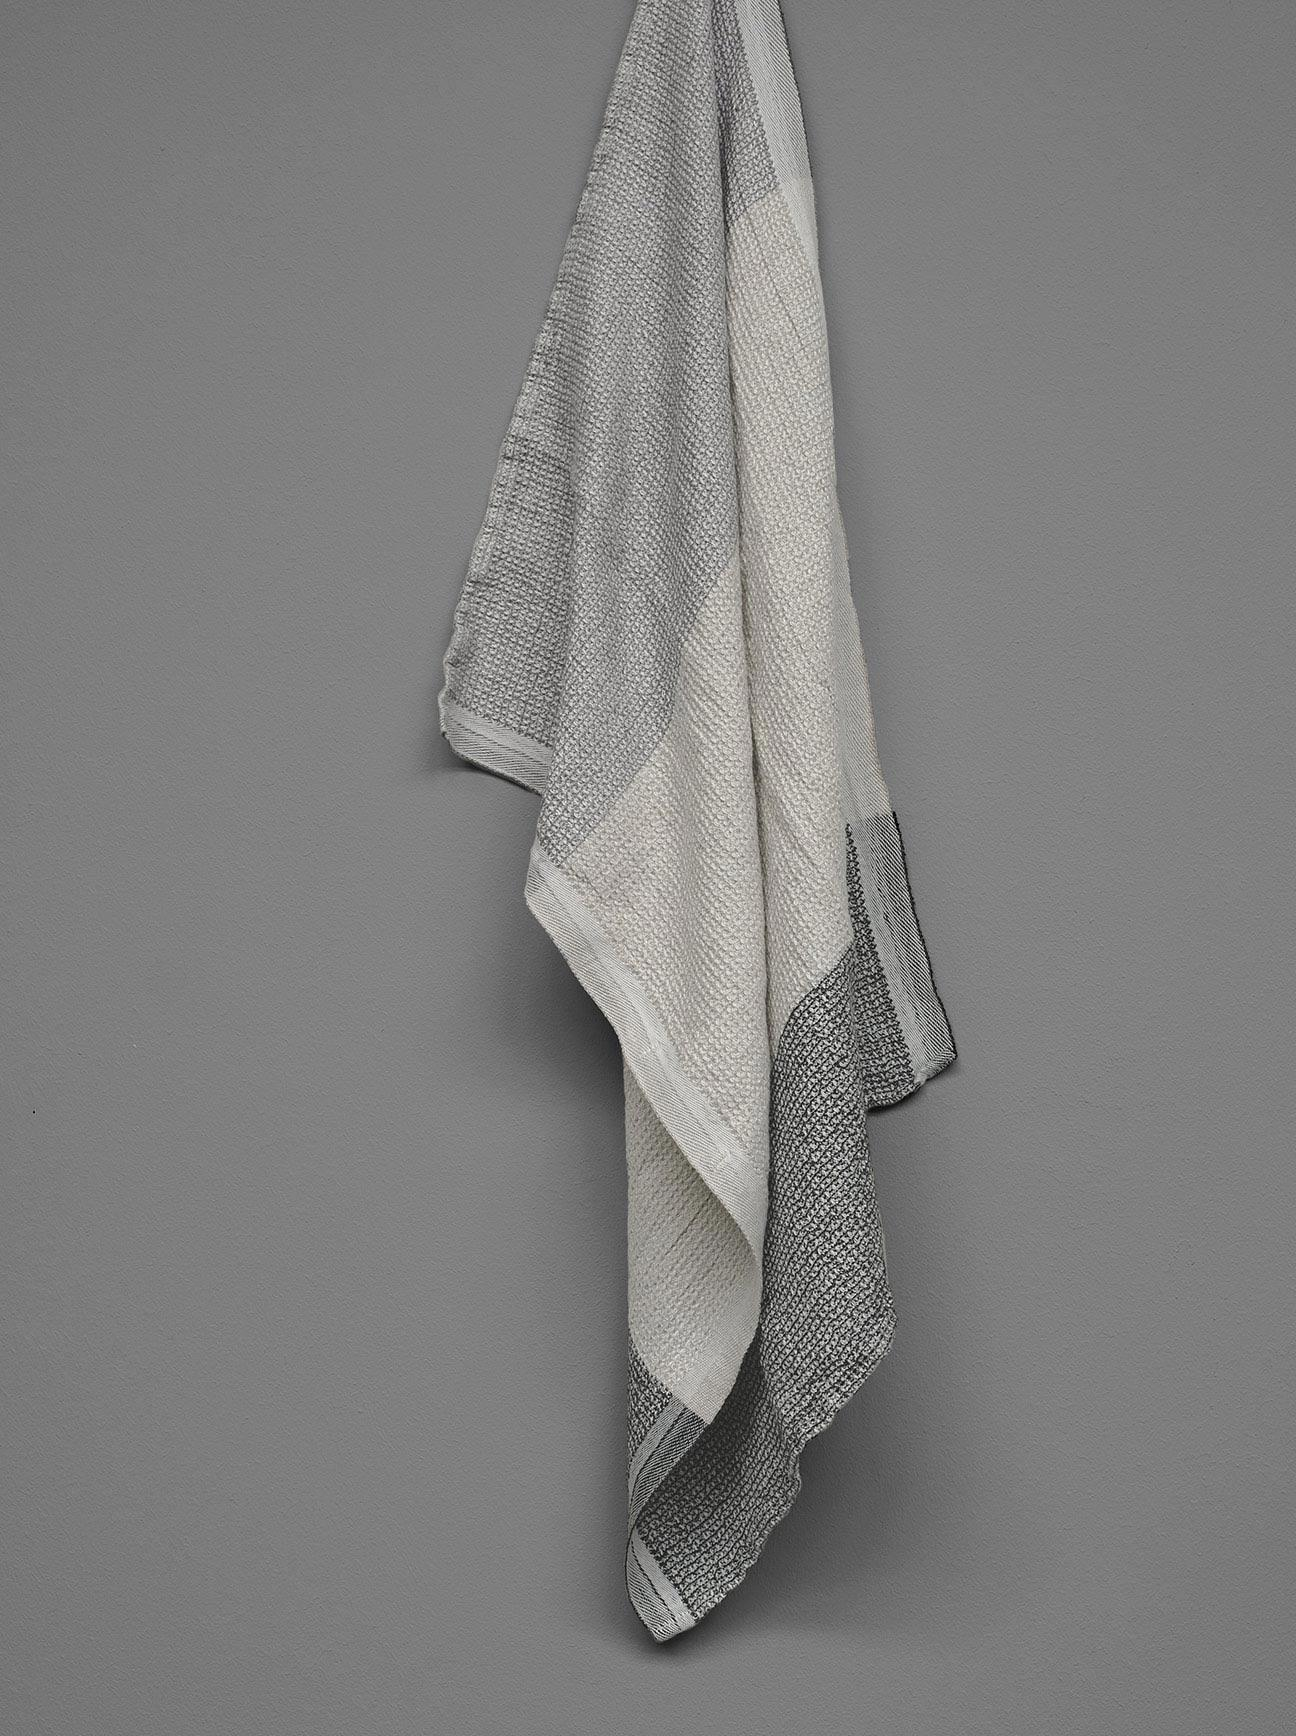towel: (421, 15, 990, 1615)
